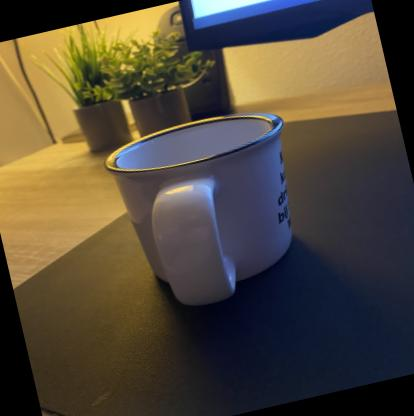Cup: (98, 99, 324, 322)
